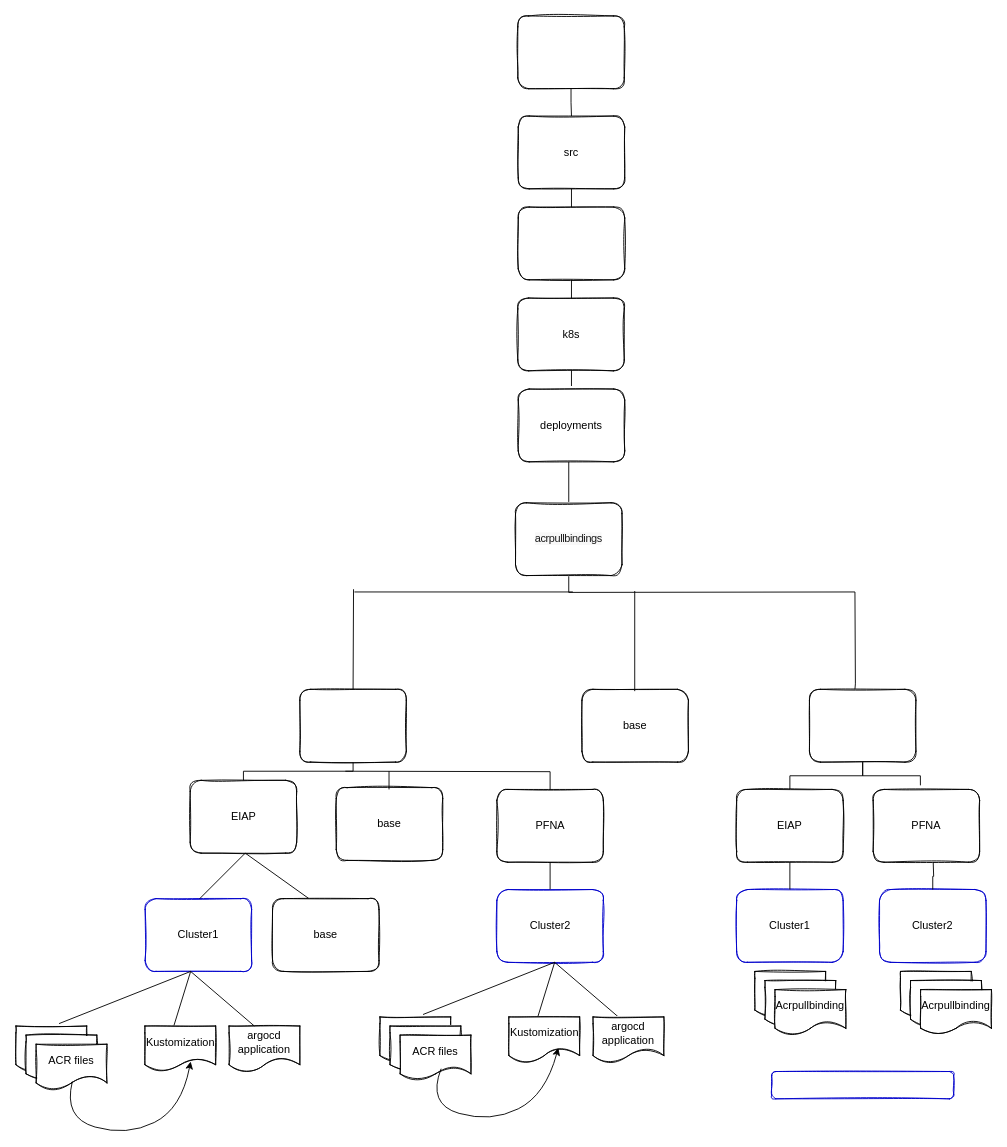
This 1007x1147 diagram has some shape labels left out. Each missing label, with the box of its shape:
Cluster level: (771, 1071, 954, 1099)
eip-infra-k8s-support: (517, 15, 624, 89)
main: (517, 206, 625, 280)
Nonprod: (299, 688, 406, 762)
Prod: (809, 688, 916, 762)
